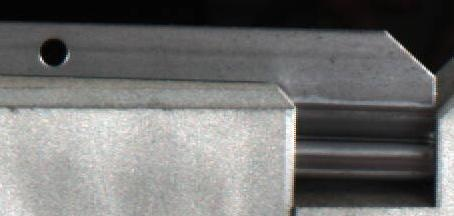cut: (311, 28, 445, 202)
holes: (37, 35, 71, 68)
